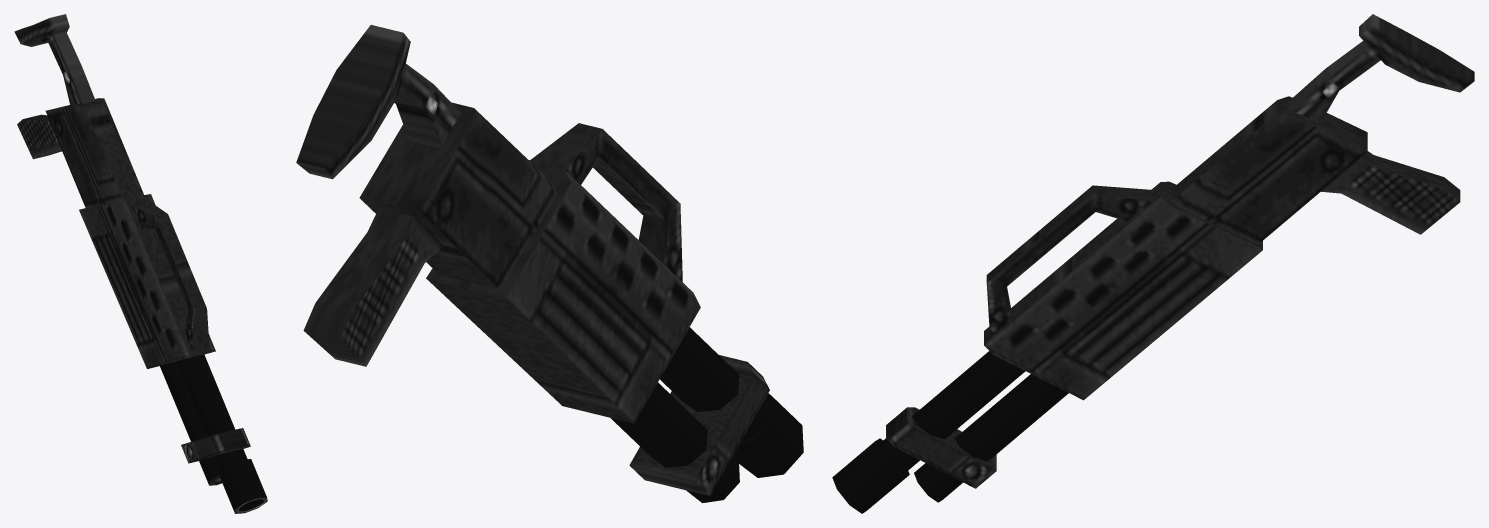
File: p_shotgun.glb
3 views of the same model, side by side, from view 1: azimuth 30°, elevation 25°; view 2: azimuth 150°, elevation 25°; view 3: azimuth 270°, elevation 25° (orthographic). The views are drawn at different scales.
Parts seen in each view (by area): view 1: p_shotgun; view 2: p_shotgun; view 3: p_shotgun.
Part boxes in pixels (x1,y1,x2,y2): p_shotgun: (14,14,267,513); p_shotgun: (296,25,803,503); p_shotgun: (832,14,1474,513).
Bounding box in the file's own units: 2.52 × 21.56 × 25.57.
Materials: 2 (2 with a texture image).
